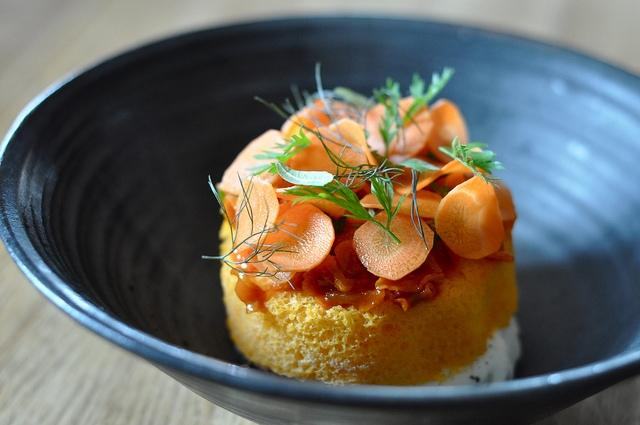carrot: (434, 175, 505, 260), (353, 210, 435, 281), (257, 204, 335, 273), (365, 95, 433, 168), (216, 130, 290, 196), (390, 156, 486, 196), (232, 174, 280, 252), (281, 100, 364, 140), (426, 98, 469, 164), (276, 186, 346, 220), (248, 245, 292, 283), (392, 189, 441, 217), (290, 144, 330, 173), (489, 180, 517, 220), (445, 172, 465, 192)
